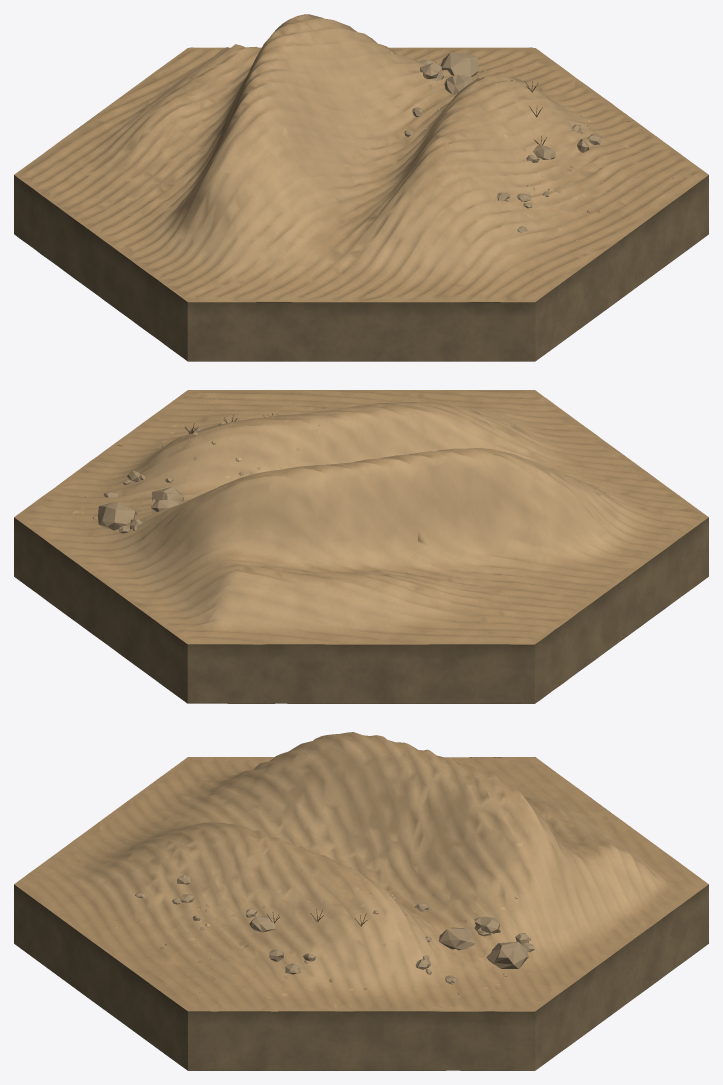
Rendered from Desert.glb.
3 renders of one model, top to bottom at view 1: azimuth 30°, elevation 25°; view 2: azimuth 150°, elevation 25°; view 3: azimuth 270°, elevation 25°, orthographic.
Parts seen in each view (by area): view 1: Desert_Ground_Web, Desert_Decorations_Web; view 2: Desert_Ground_Web, Desert_Decorations_Web; view 3: Desert_Ground_Web, Desert_Decorations_Web.
Part boxes in pixels (x1,y1,x2,y2): Desert_Ground_Web: [14, 14, 708, 361]; Desert_Decorations_Web: [404, 52, 602, 232]; Desert_Ground_Web: [14, 390, 708, 703]; Desert_Decorations_Web: [98, 413, 280, 533]; Desert_Ground_Web: [14, 732, 708, 1070]; Desert_Decorations_Web: [135, 875, 534, 984].
Bounding box in the file's own units: 1.65 × 0.4859 × 1.91.
Materials: 5 (5 with a texture image).
